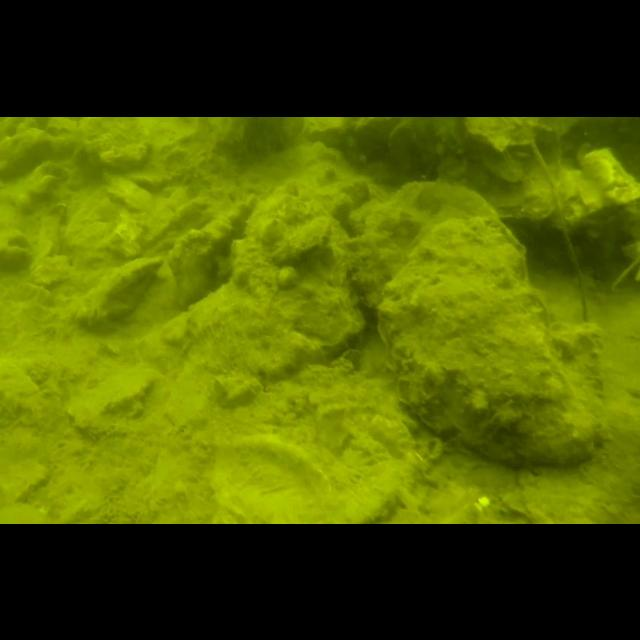Oyster-Closed: (377, 208, 595, 457), (348, 176, 496, 308), (200, 414, 320, 524), (164, 196, 252, 308), (68, 252, 164, 328), (78, 116, 154, 172), (272, 215, 334, 265)
Oyster-Open: (436, 146, 554, 220), (554, 146, 640, 230), (0, 225, 32, 270)
